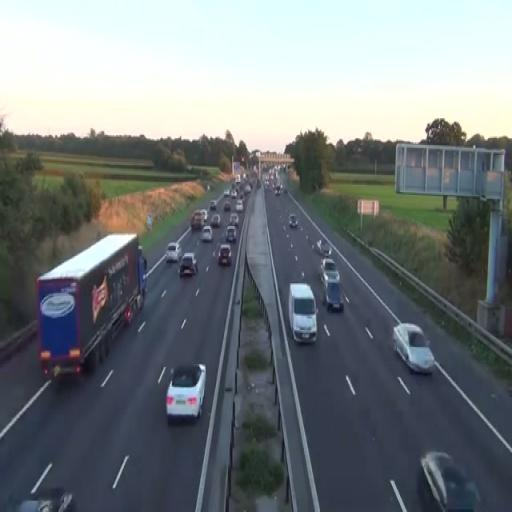Car: (416, 451, 482, 512), (166, 364, 206, 424), (392, 322, 435, 375), (288, 283, 318, 344), (324, 275, 344, 312), (320, 258, 338, 285), (178, 253, 198, 277), (166, 242, 182, 263), (218, 244, 232, 267), (201, 224, 213, 242), (226, 225, 236, 243), (210, 214, 221, 228)
Truck: (36, 232, 148, 384)
